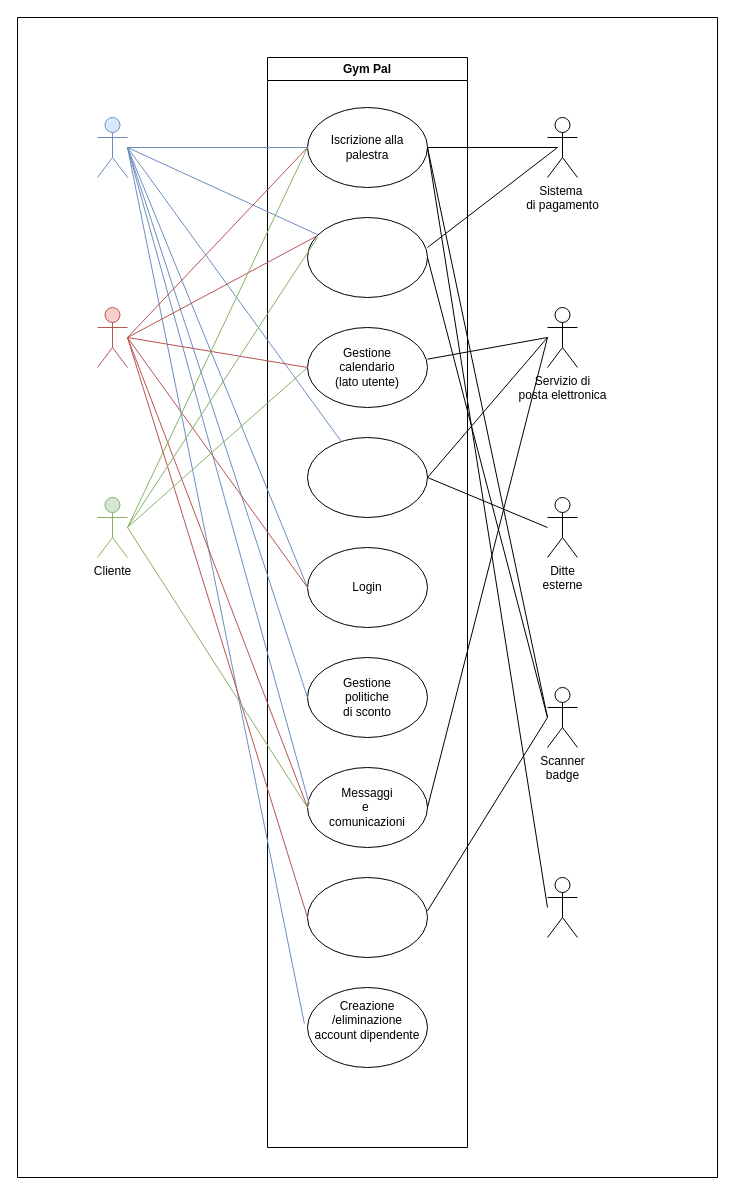
This 735x1195 diagram has some shape labels left out. The centre of each missing label's shape, as x and y in pixels:
Caricamento dati sul badge: the point at 367,917
Gestione abbonamento: the point at 367,257
Gestione calendario (lato staff): the point at 367,477
Manager: the point at 112,147
Receptionist: the point at 112,337
Scanner documenti: the point at 562,907
